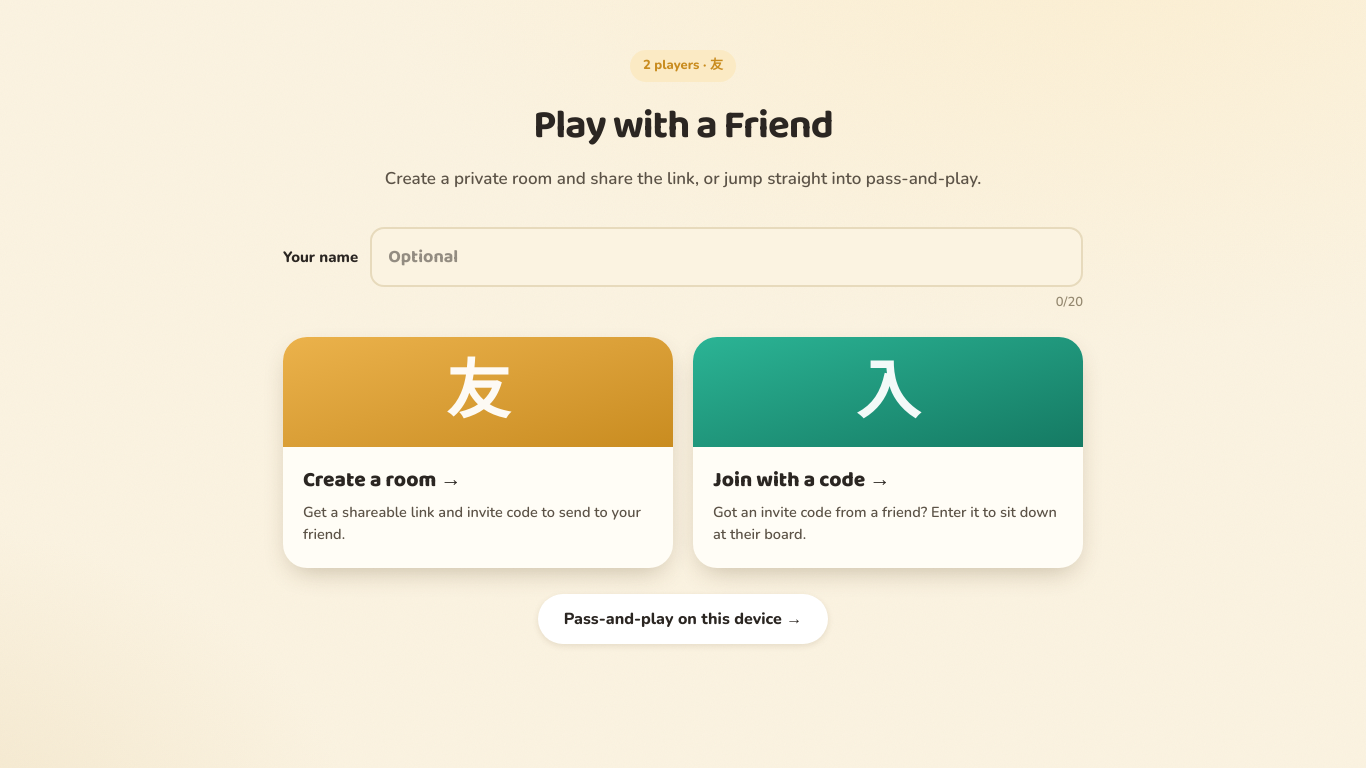
it: MultiplayerScreen rejoin from ?room= › pass-and-play uses Exit game instead of Leave room
Click the button "Pass-and-play on this device →". click: (683, 618)
box: [538,594,828,644]
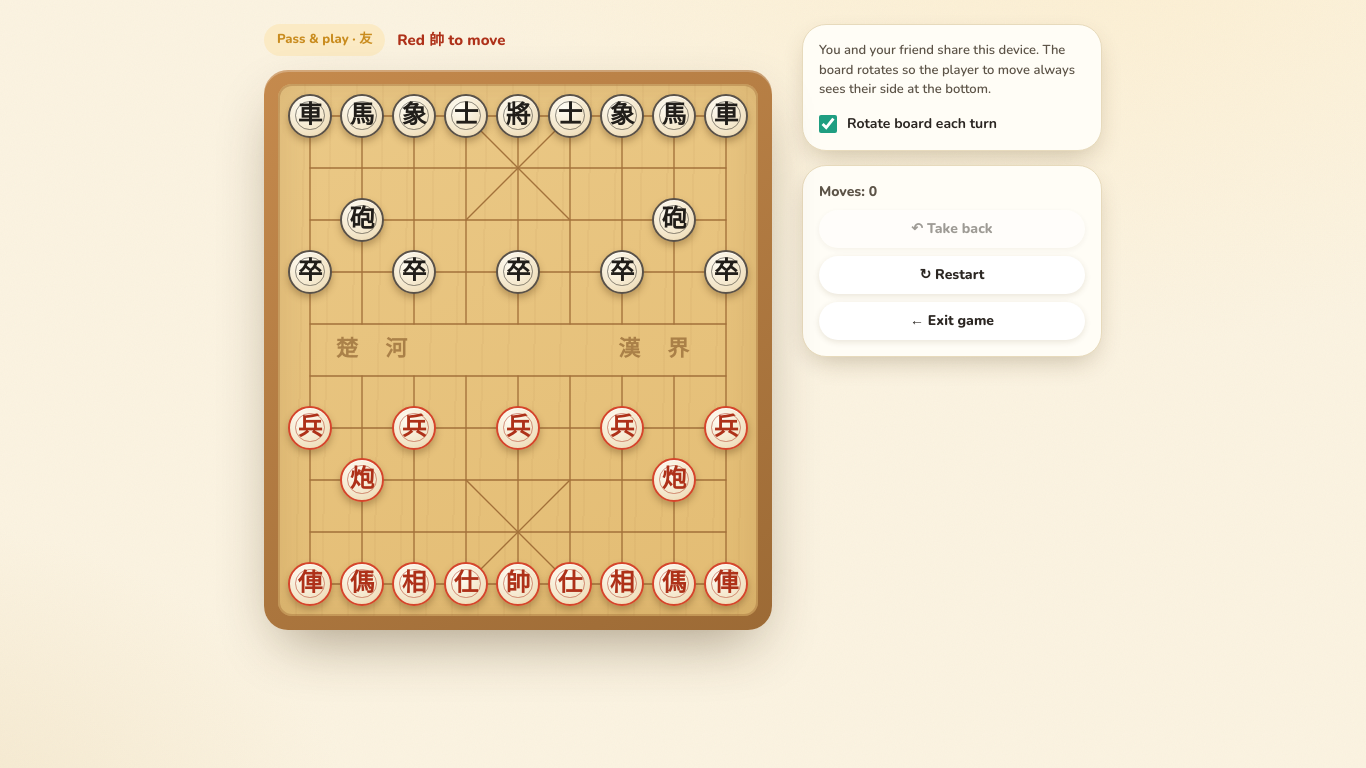
expect the button "← Exit game" is shown: met, box [819,302,1085,340]
